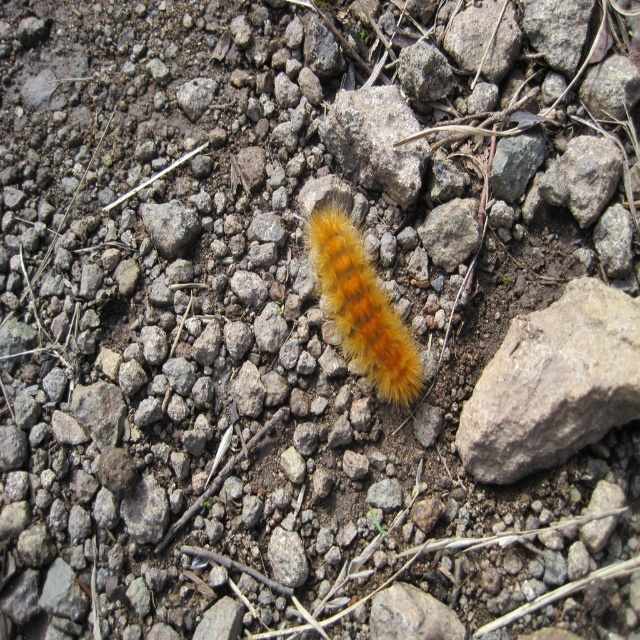Caterpillar: (291, 182, 440, 426)
